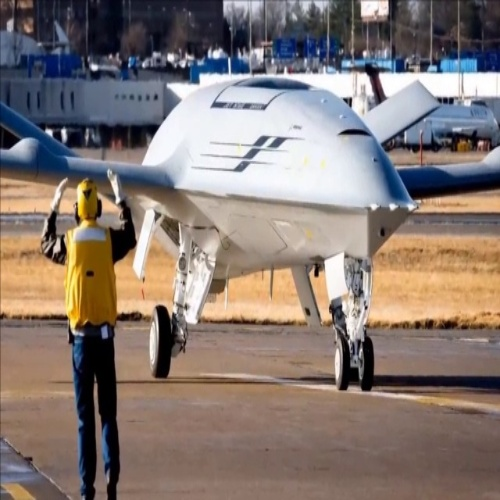uav: (1, 73, 497, 397)
